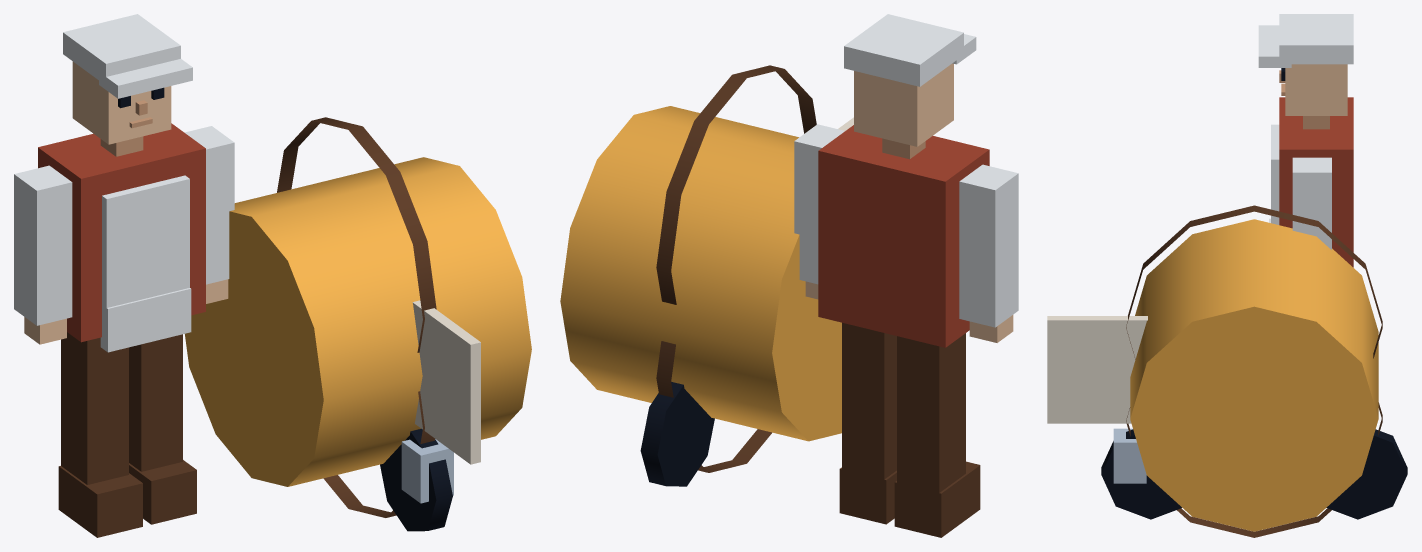
The model's file is npc_kvass.glb.
3 views of the same model, side by side, from view 1: azimuth 30°, elevation 25°; view 2: azimuth 150°, elevation 25°; view 3: azimuth 270°, elevation 25° (orthographic). The views are drawn at different scales.
Parts seen in each view (by area): view 1: npc_kvass; view 2: npc_kvass; view 3: npc_kvass.
Part boxes in pixels (box(x1,y1,x2,y2)): npc_kvass: box(14, 14, 531, 537); npc_kvass: box(560, 14, 1018, 537); npc_kvass: box(1047, 14, 1407, 537).
Size of the model in its own units: 1.93 by 2.25 by 1.74.
1 material, 1 textured.
